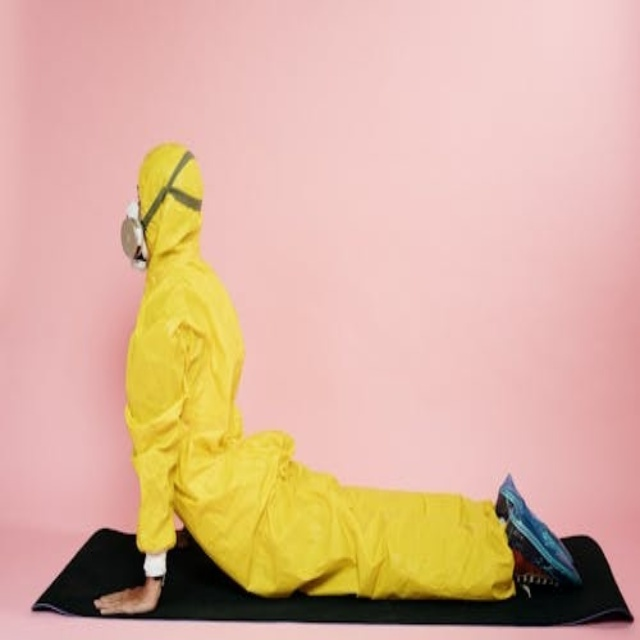Mascara: (120, 200, 146, 268)
Sin_guantes: (94, 575, 164, 615)
